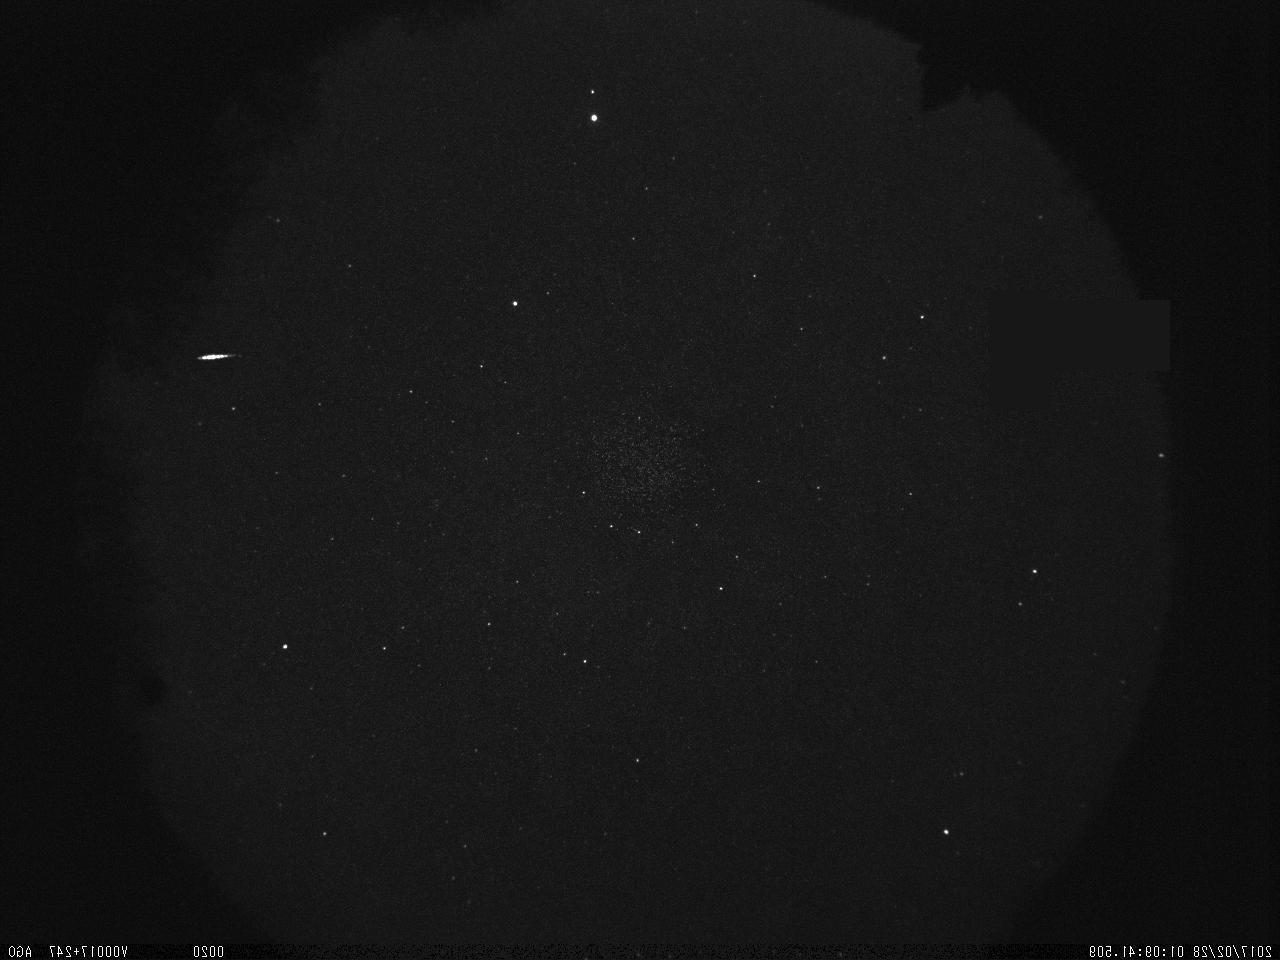meteor: (186, 332, 249, 400)
